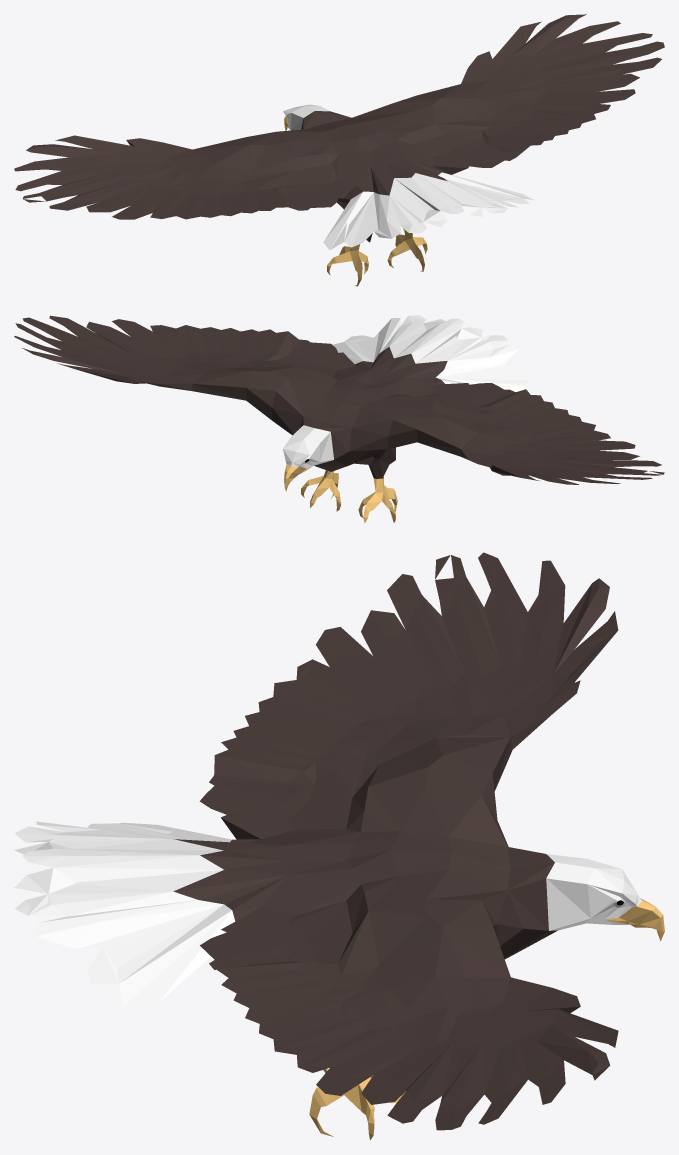
File: adlerFootOut03.dae
3 views of the same model, one above another, from view 1: azimuth 30°, elevation 25°; view 2: azimuth 150°, elevation 25°; view 3: azimuth 270°, elevation 25° (orthographic). The views are drawn at different scales.
Visible parts, largest first — view 1: SketchUp (×5); view 2: SketchUp (×5); view 3: SketchUp (×5).
Part boxes in pixels (box(x1,y1,x2,y2)): SketchUp (×5): box(15, 14, 664, 286); SketchUp (×5): box(15, 315, 662, 523); SketchUp (×5): box(14, 552, 664, 1140).
Size of the model in its own units: 1475 by 706 by 325.
